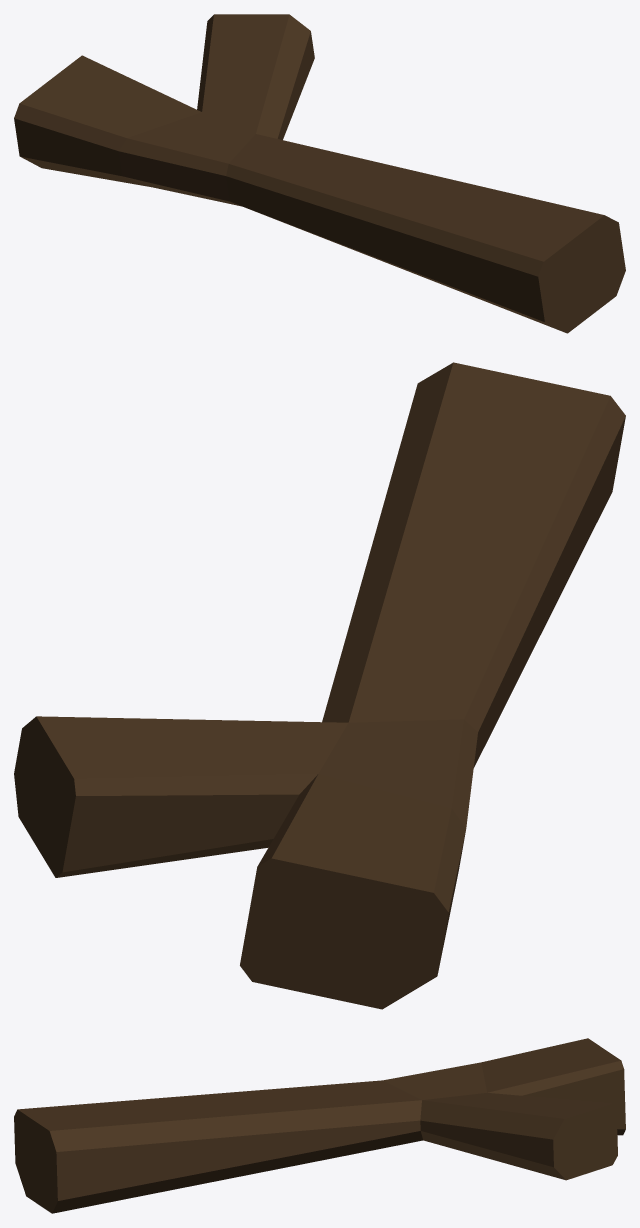
File: Stick 1.fbx
The picture shows the model from 3 angles, top to bottom: view 1: azimuth 30°, elevation 25°; view 2: azimuth 150°, elevation 25°; view 3: azimuth 270°, elevation 25°; orthographic projection. The views are drawn at different scales.
Visible parts, largest first — view 1: Stick 1; view 2: Stick 1; view 3: Stick 1.
Part boxes in pixels (left/top/right/bottom): Stick 1: left=14, top=14, right=625, bottom=333; Stick 1: left=14, top=362, right=625, bottom=1009; Stick 1: left=14, top=1038, right=625, bottom=1213.
Size of the model in its own units: 21.36 by 7.13 by 39.25.
